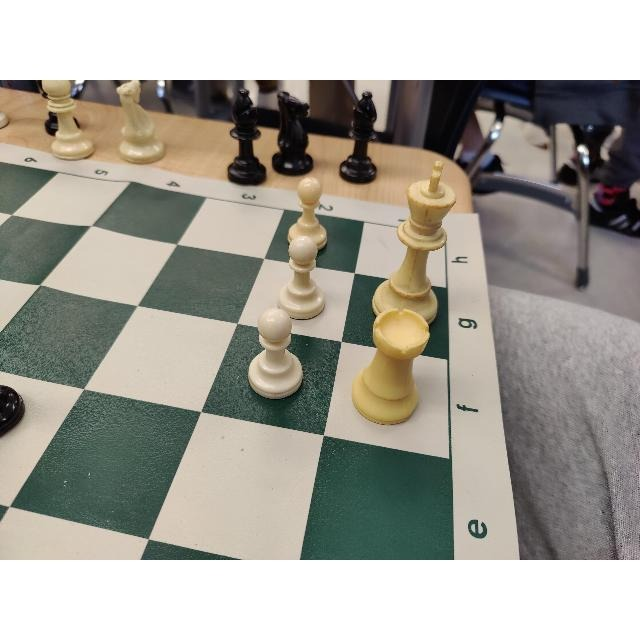white-king: (371, 159, 457, 327)
white-pawn: (248, 308, 303, 399), (277, 236, 327, 320), (288, 178, 328, 250)
white-rook: (353, 309, 431, 427)
